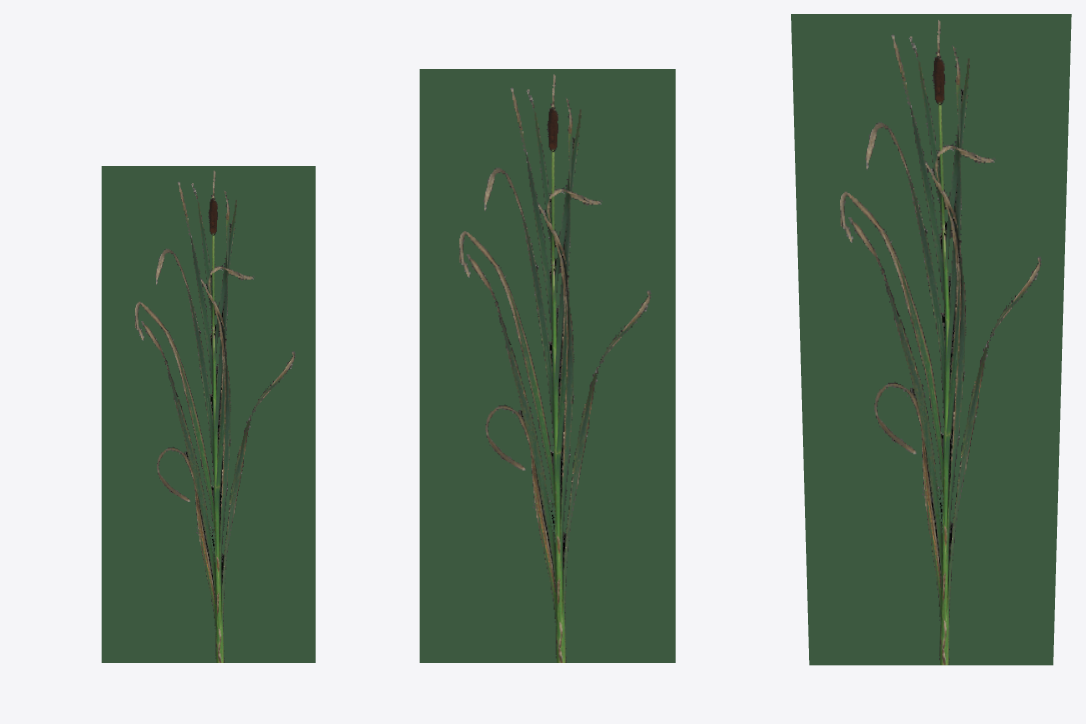
The model's file is catailVeg_LOD50.glb.
3 renders of one model, left to right at view 1: azimuth 30°, elevation 25°; view 2: azimuth 150°, elevation 25°; view 3: azimuth 270°, elevation 25°, orthographic. The views are drawn at different scales.
Visible parts, largest first — view 1: Catail.png__; view 2: Catail.png__; view 3: Catail.png__.
Part boxes in pixels (<box>): Catail.png__: <box>101,166,315,662</box>; Catail.png__: <box>419,69,675,662</box>; Catail.png__: <box>791,14,1071,665</box>.
Size of the model in its own units: 6.72 by 14.92 by 6.84.
Materials: 1 (1 with a texture image).
